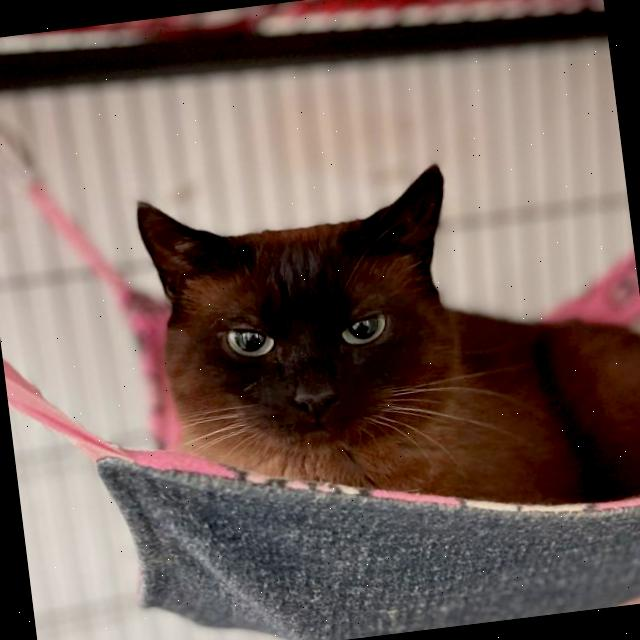siamese_cat: (119, 137, 531, 529)
